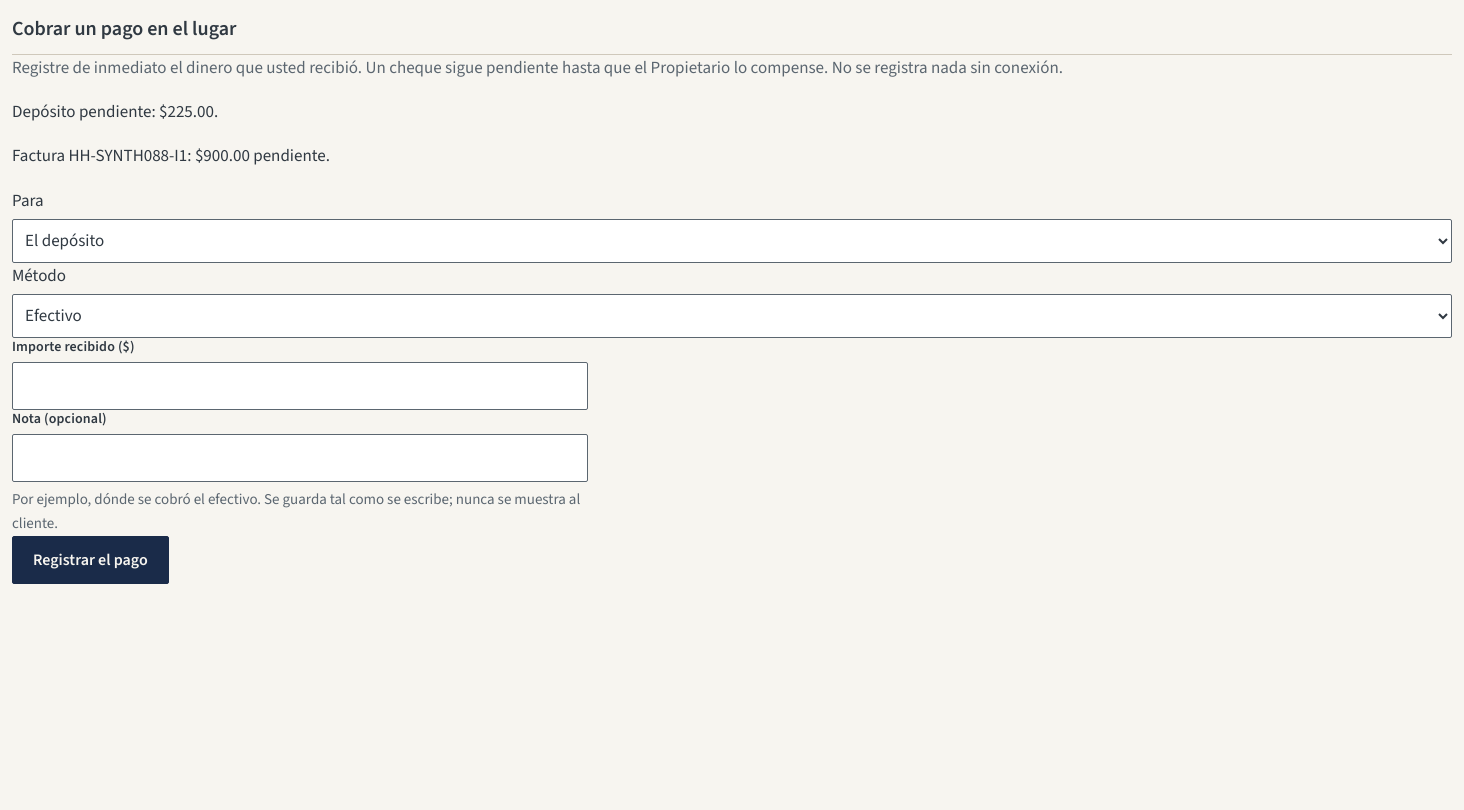
CollectPayment (TSK-0088) › [HH-FIN-12] a check asks for its number and payer, and says it stays pending; Spanish
Select "Factura HH-SYNTH088-I1" in the dropdown labelled "Para" at x=732, y=241, box [12,219,1452,263]
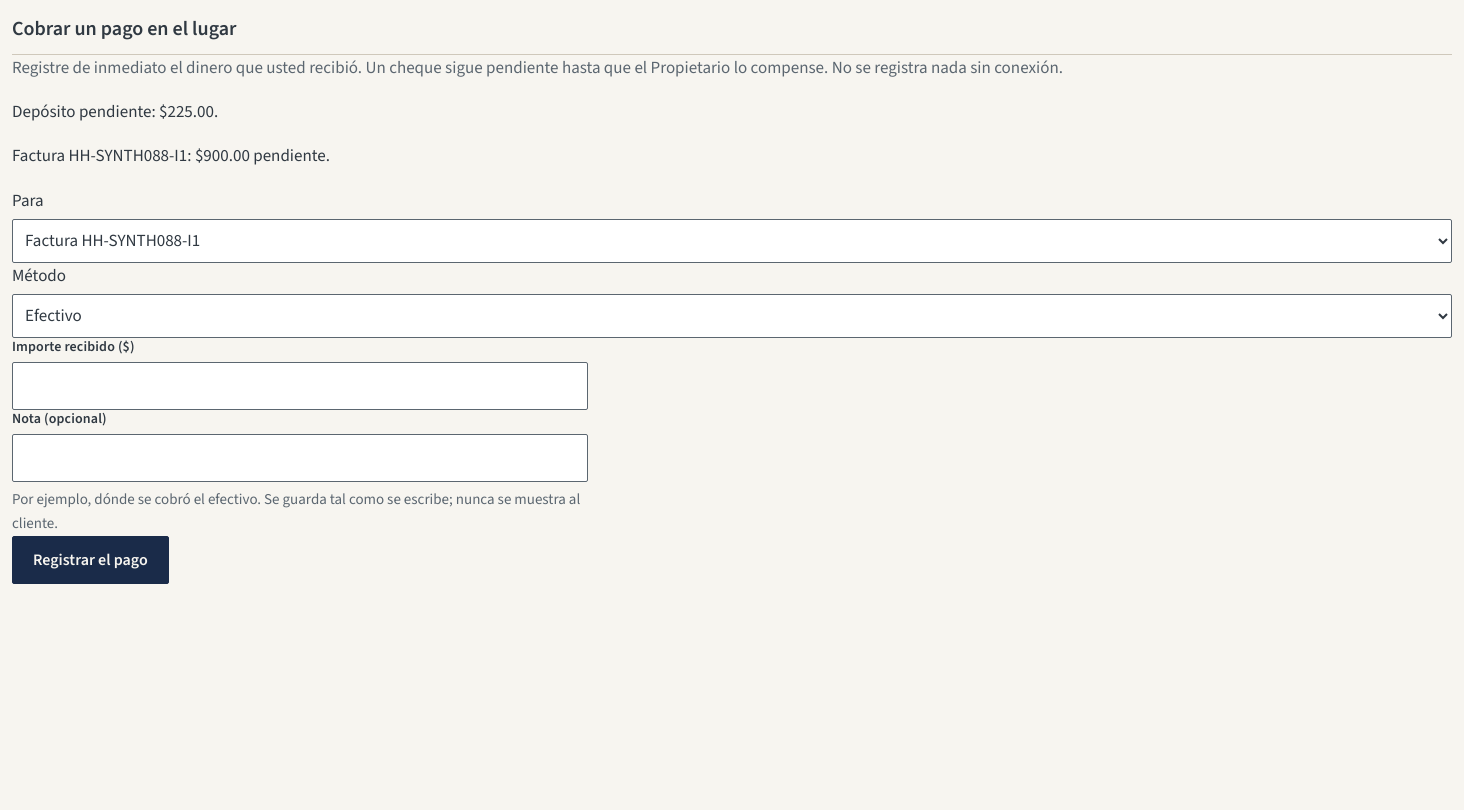
Select "Cheque" in the dropdown labelled "Método" at x=732, y=316, box [12,294,1452,338]
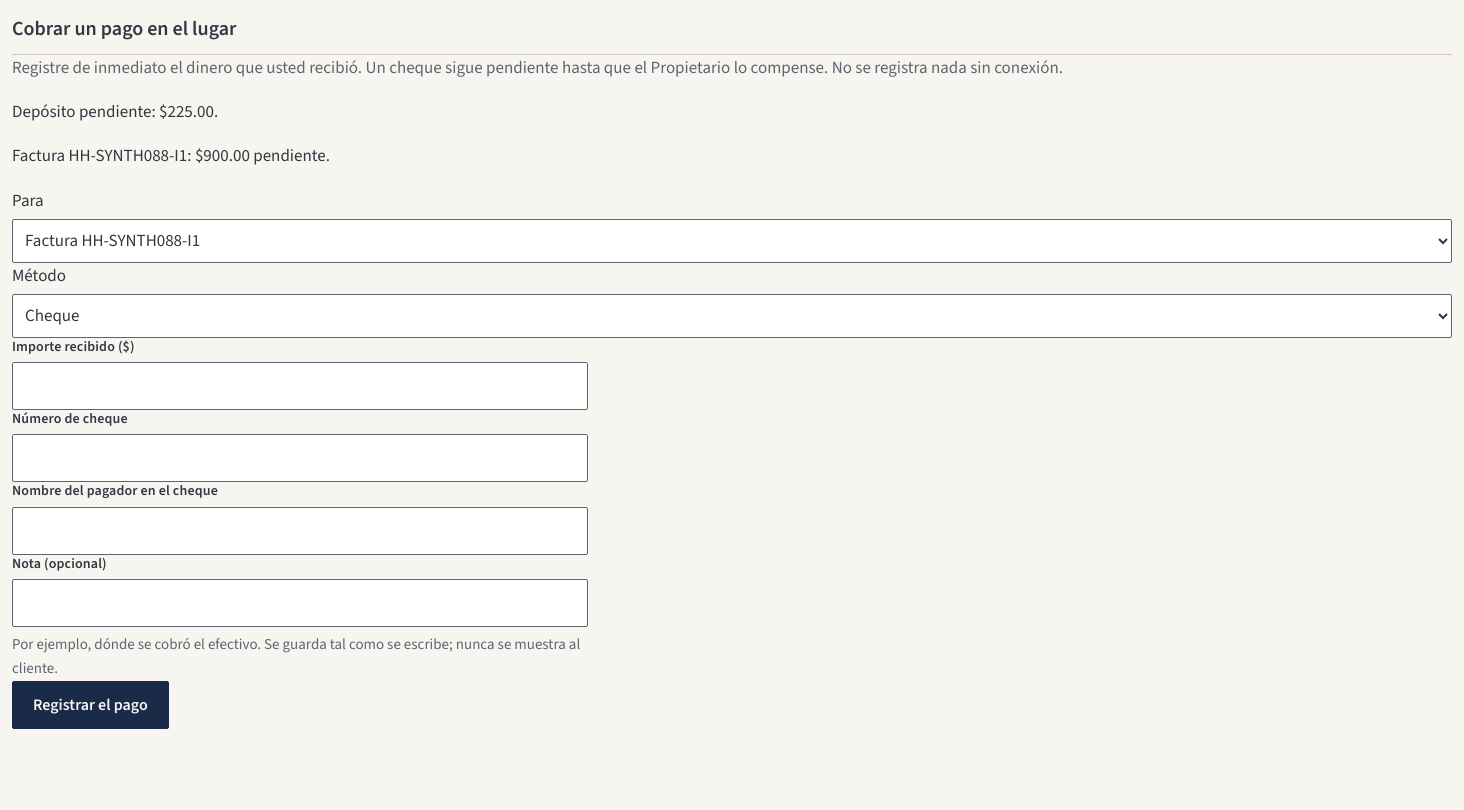
Type "1088" into the field labelled "Número de cheque" at x=300, y=458, box [12,434,588,482]
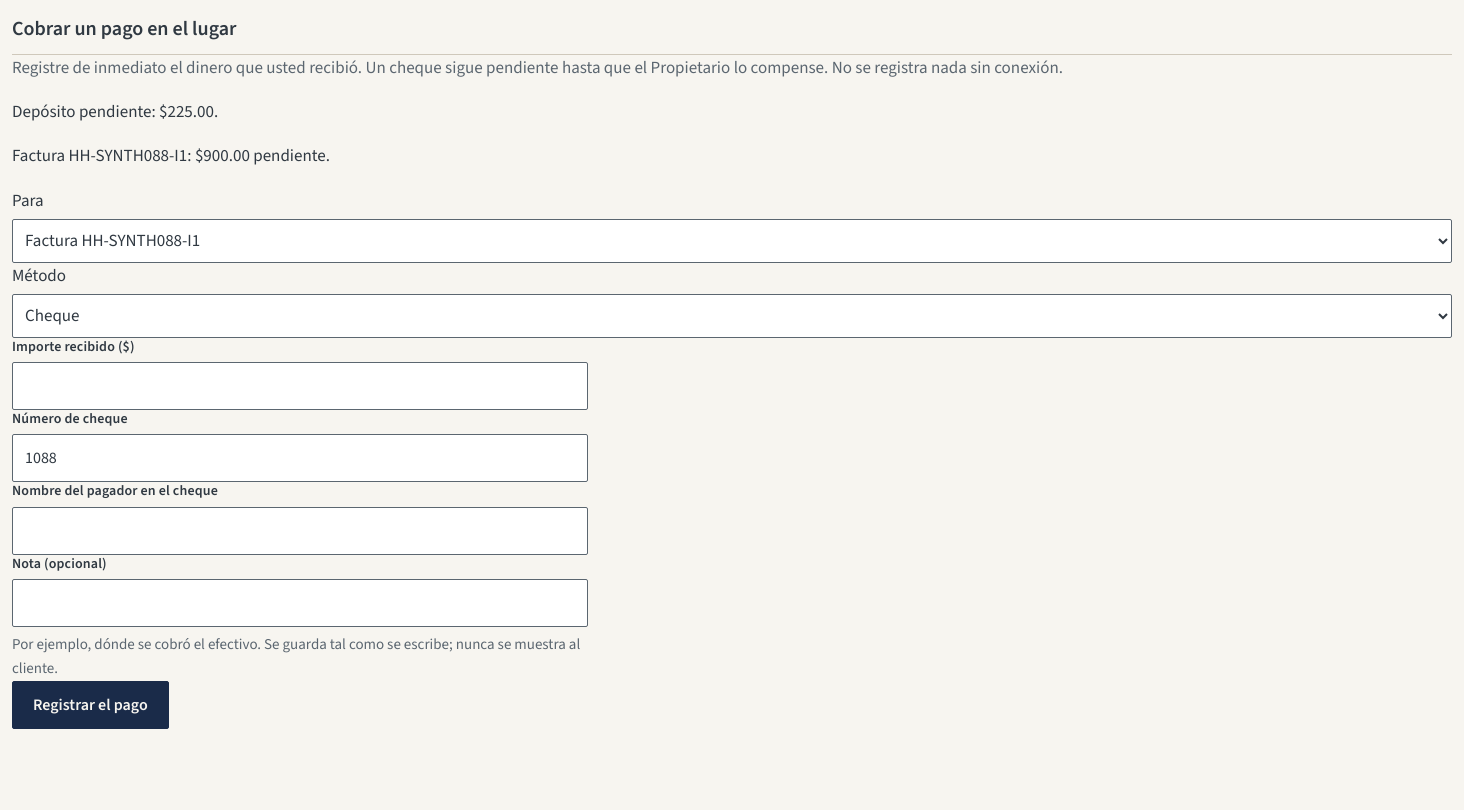
Type "100" into the field labelled "Importe recibido ($)" at x=300, y=386, box [12,362,588,410]
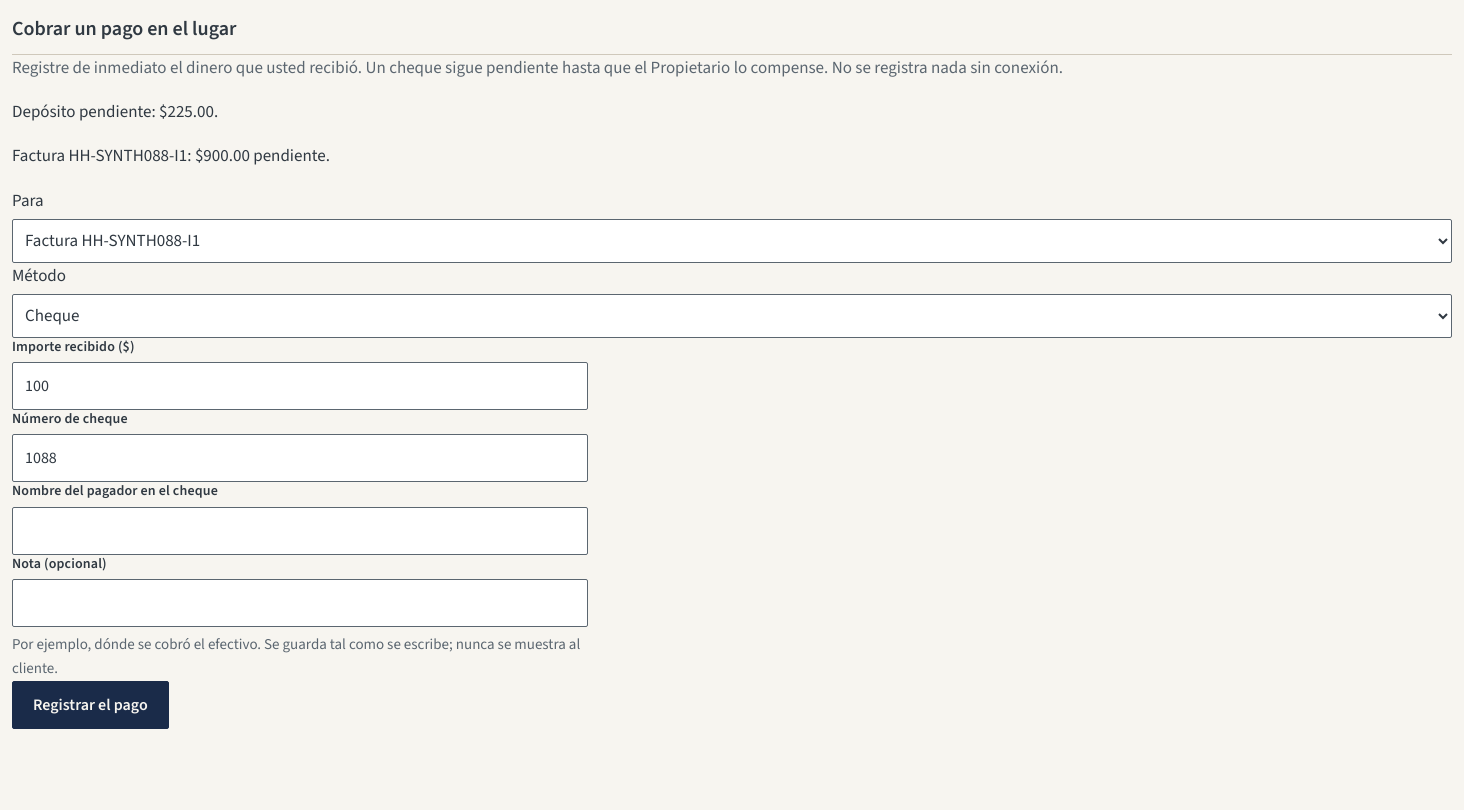
Type "Synthetic Payer" into the field labelled "Nombre del pagador en el cheque" at x=300, y=530, box [12,506,588,554]
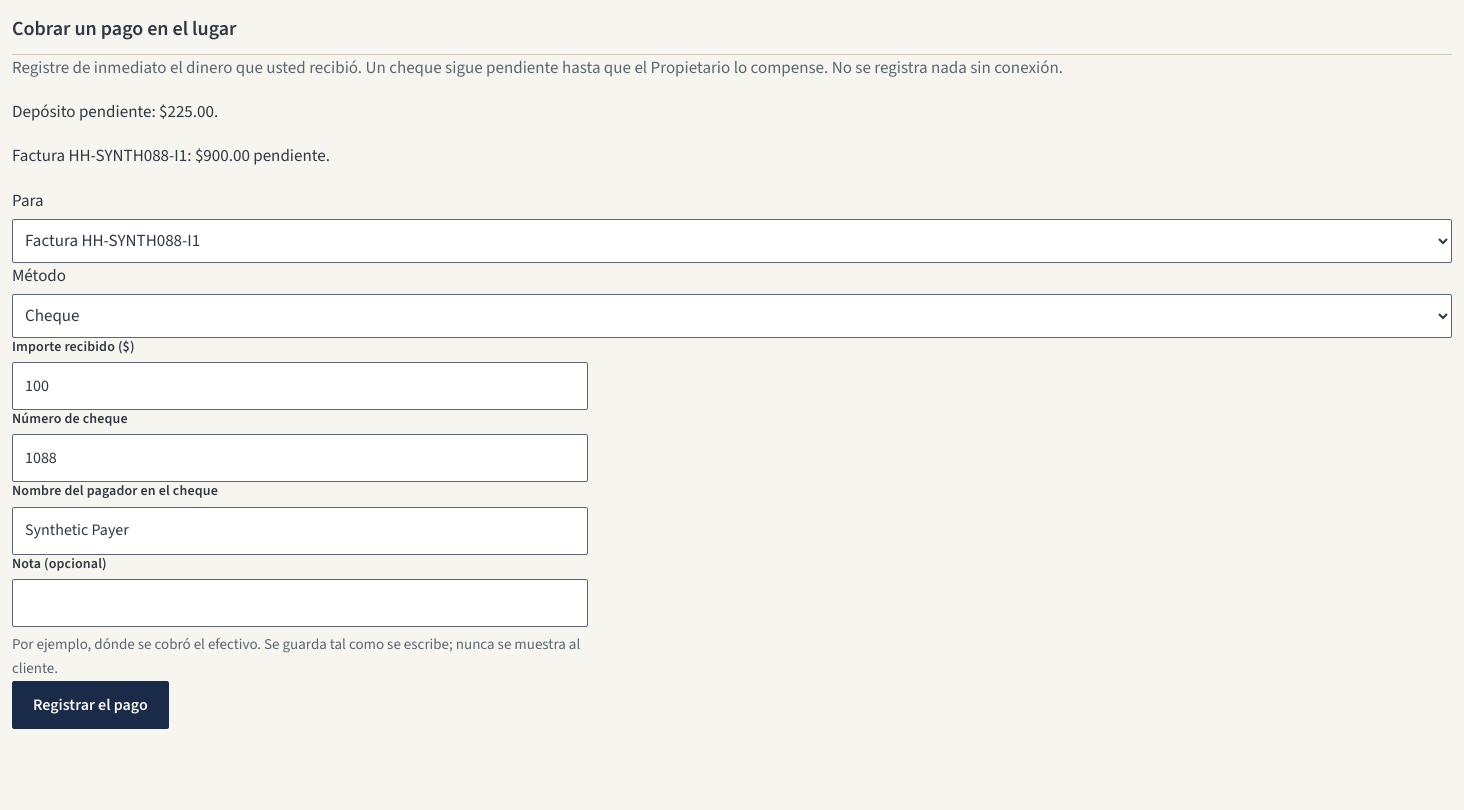
Click the button "Registrar el pago" at x=90, y=705, box [12,681,169,729]
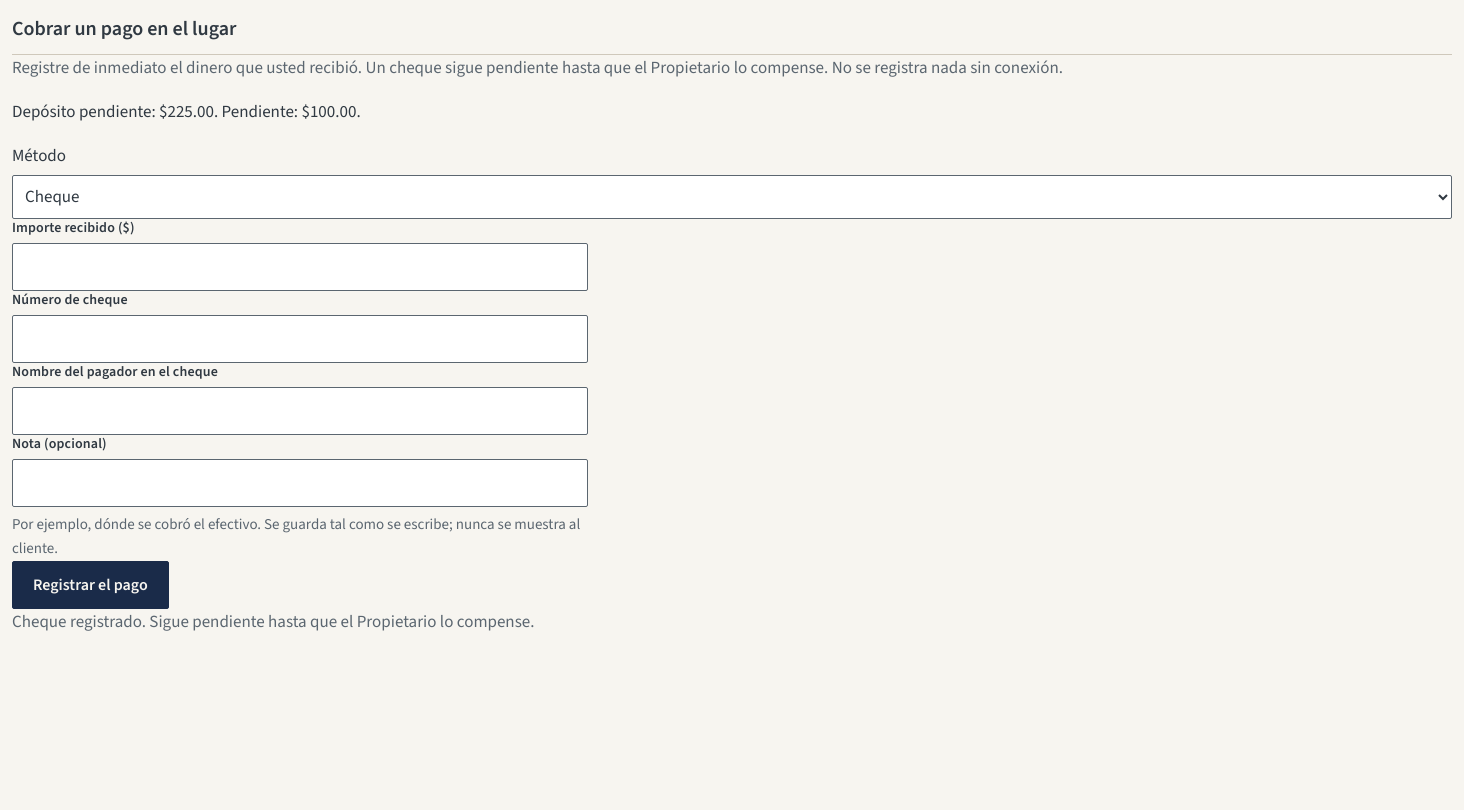
Now the message with test id "collect-done" reads "Cheque registrado. Sigue pendiente hasta que el Propietario lo compense.", box [12,610,534,634]
